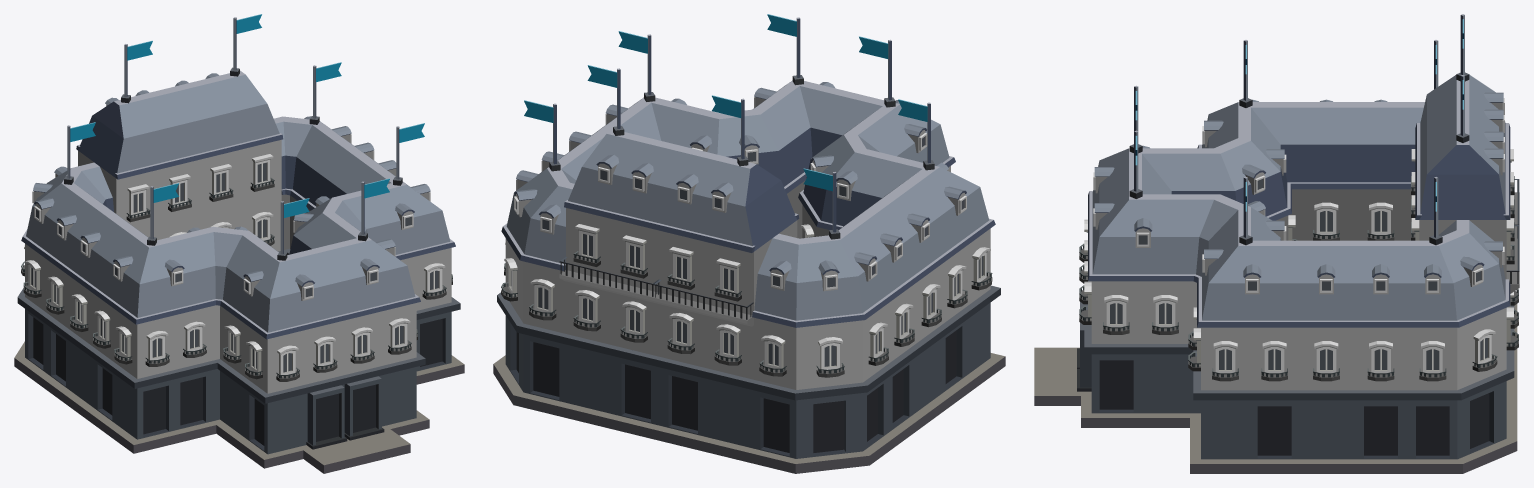
The model's file is TB_CITY_Uniq_Cityhall.FBX.
3 renders of one model, left to right at view 1: azimuth 30°, elevation 25°; view 2: azimuth 150°, elevation 25°; view 3: azimuth 270°, elevation 25°, orthographic. The views are drawn at different scales.
Visible parts, largest first — view 1: TB_CITY_Uniq_Cityhall; view 2: TB_CITY_Uniq_Cityhall; view 3: TB_CITY_Uniq_Cityhall.
Part boxes in pixels (x1,y1,x2,y2): TB_CITY_Uniq_Cityhall: [14, 14, 464, 473]; TB_CITY_Uniq_Cityhall: [493, 14, 1005, 473]; TB_CITY_Uniq_Cityhall: [1034, 14, 1519, 473].
Size of the model in its own units: 32.19 by 27.2 by 35.53.
